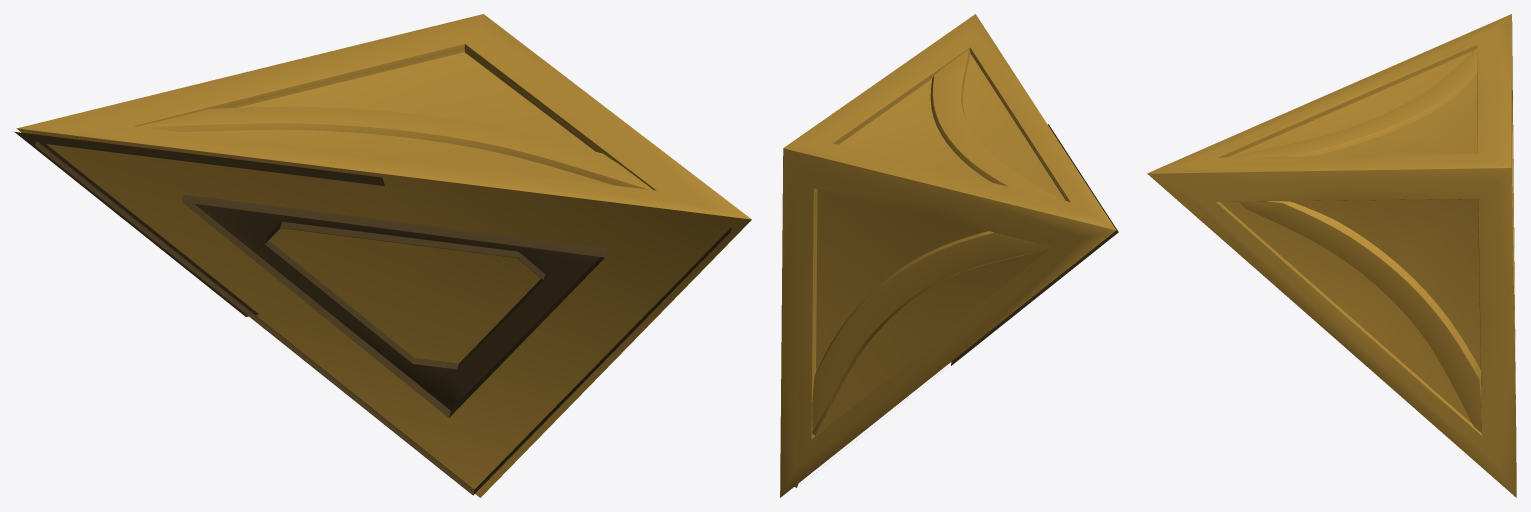
File: Holocron_Esquina_SupDerTra.obj
3 views of the same model, side by side, from view 1: azimuth 30°, elevation 25°; view 2: azimuth 150°, elevation 25°; view 3: azimuth 270°, elevation 25° (orthographic). The views are drawn at different scales.
Parts seen in each view (by area): view 1: Holocron_Esquina_SupDerTra; view 2: Holocron_Esquina_SupDerTra; view 3: Holocron_Esquina_SupDerTra.
Boxes of the visible parts, x1=… form: Holocron_Esquina_SupDerTra: x1=14, y1=14, x2=751, y2=497; Holocron_Esquina_SupDerTra: x1=780, y1=14, x2=1118, y2=497; Holocron_Esquina_SupDerTra: x1=1147, y1=14, x2=1516, y2=497.
Size of the model in its own units: 5.21 by 5.13 by 5.2.
